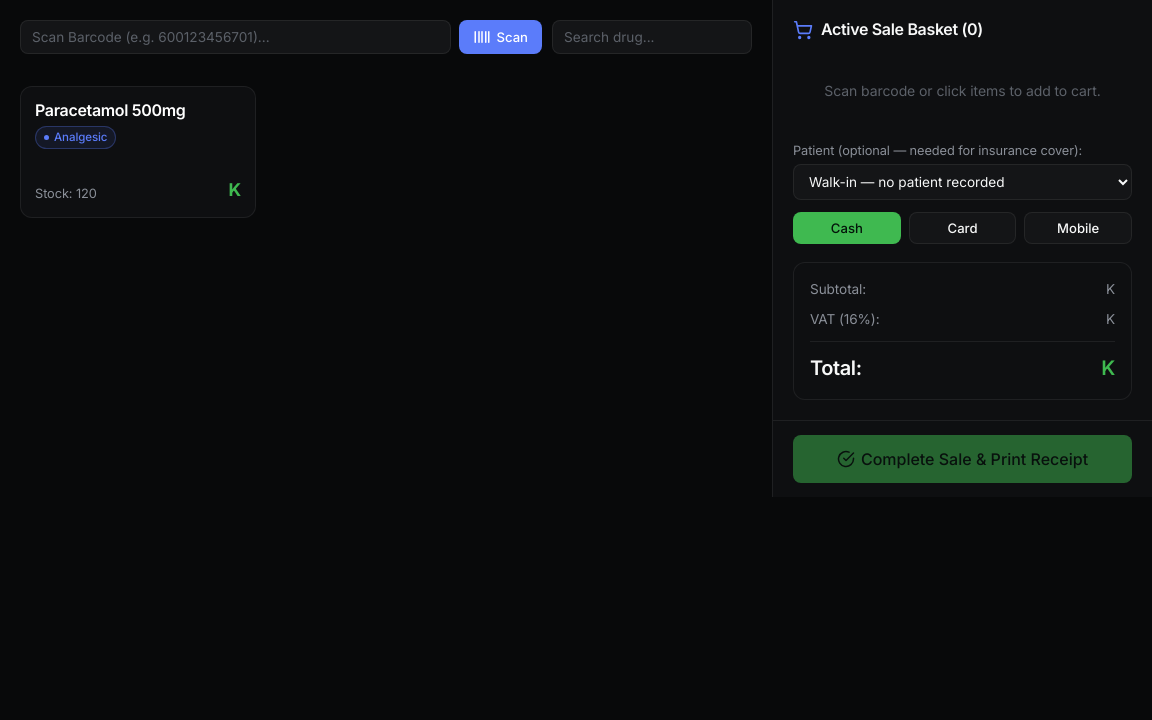
the till can apply insurance cover › says so plainly when the patient has no cover
Select "Chipego Mukimba · +260965111222" in the dropdown at coordinates (962, 182), box [793,164,1132,200]
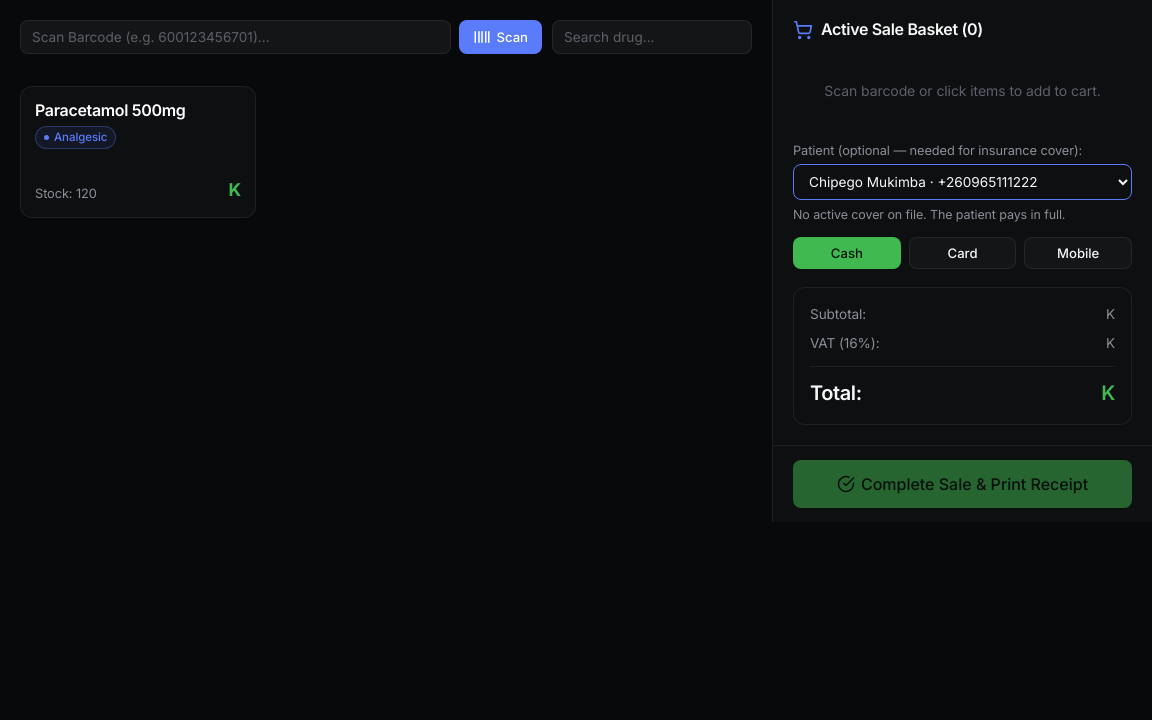
expect the text "No active cover on file. The patient pays in full." is shown: met, box [793,207,1065,222]
